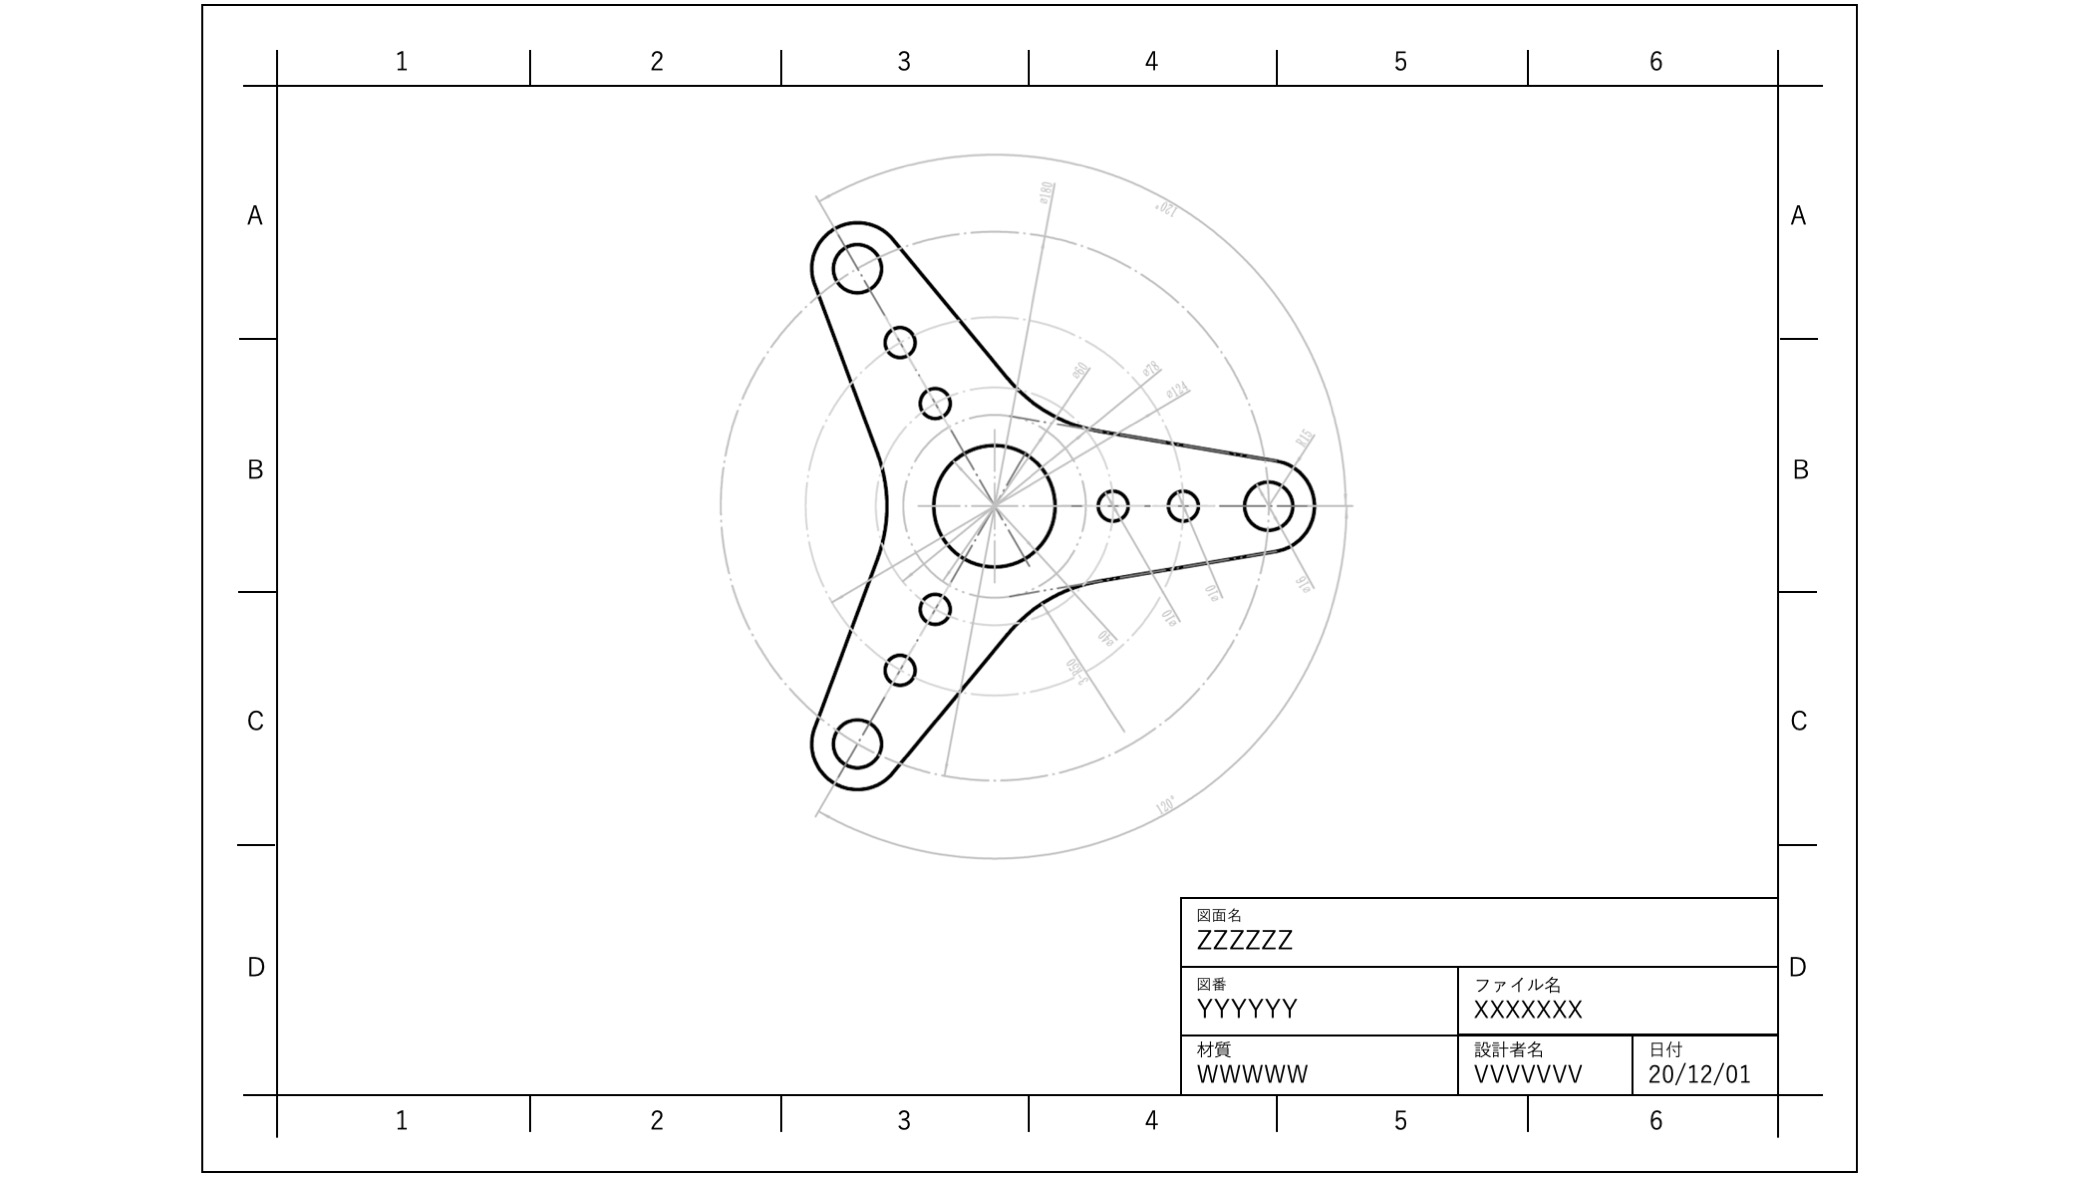circle: (917, 440, 1064, 561), (829, 704, 886, 776), (826, 236, 887, 297), (1240, 474, 1300, 532), (914, 371, 956, 424), (1157, 480, 1204, 526), (1095, 482, 1141, 526), (880, 642, 917, 694), (917, 580, 955, 629), (875, 320, 917, 359)
